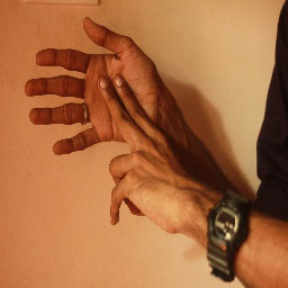N: (23, 13, 173, 223)
